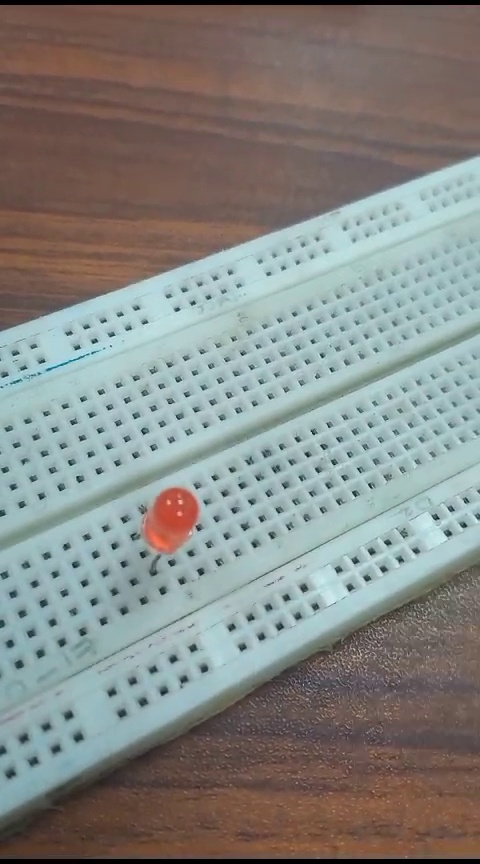LED: (138, 489, 202, 572)
